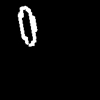chain: (18, 6, 36, 45)
